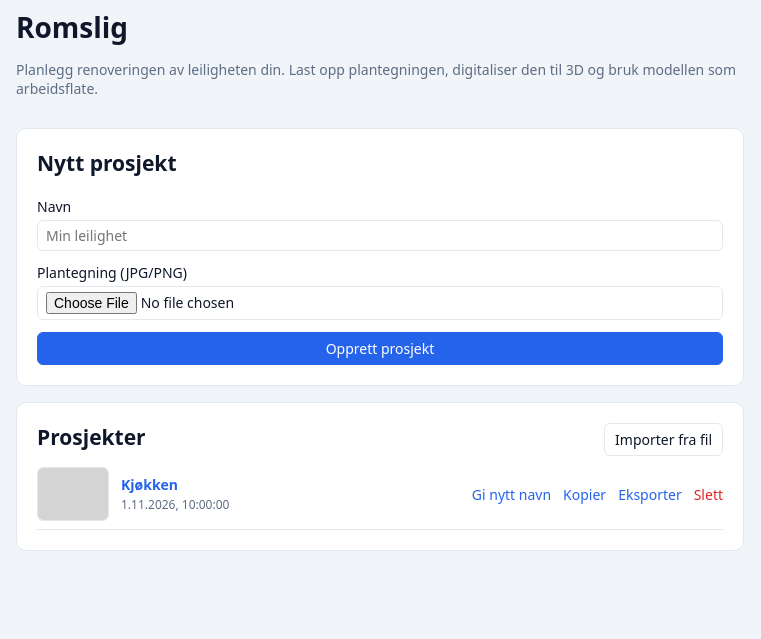
Test: ProjectList › copies a project and shows the fresh list
This screenshot has width=761, height=639.
Expected: the link "Kjøkken" is shown, left=121, top=475, right=178, bottom=494
Click the button "Kopier" at (585, 494), box left=563, top=484, right=606, bottom=504
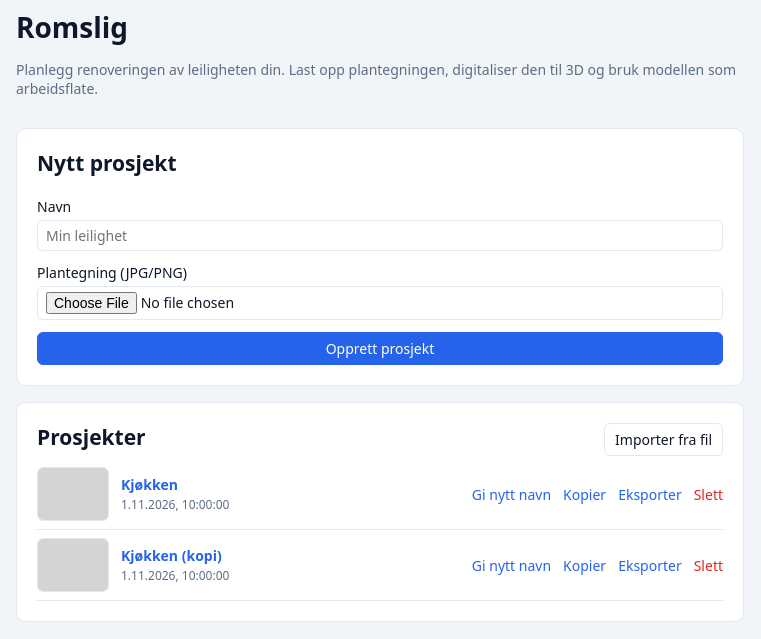
Result: the link "Kjøkken (kopi)" is shown at left=121, top=546, right=222, bottom=565
